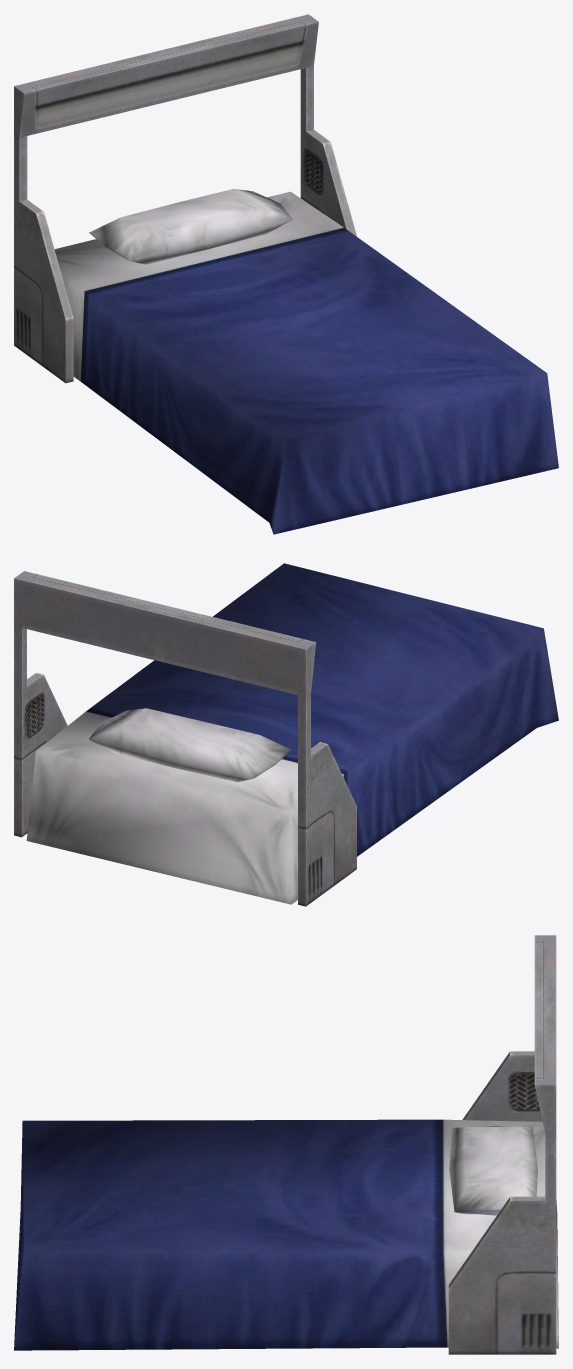
Rendered from frn_all_bed_sm_s2_l1.fbx.
The picture shows the model from 3 angles, top to bottom: view 1: azimuth 30°, elevation 25°; view 2: azimuth 150°, elevation 25°; view 3: azimuth 270°, elevation 25°; orthographic projection. The views are drawn at different scales.
Parts seen in each view (by area): view 1: mesh_node; view 2: mesh_node; view 3: mesh_node.
Part boxes in pixels (x1,y1,x2,y2): mesh_node: (14,14,558,534); mesh_node: (14,563,558,906); mesh_node: (14,935,558,1354).
Bounding box in the file's own units: 1.29 × 1.09 × 1.98.
Materials: 1 (1 with a texture image).
